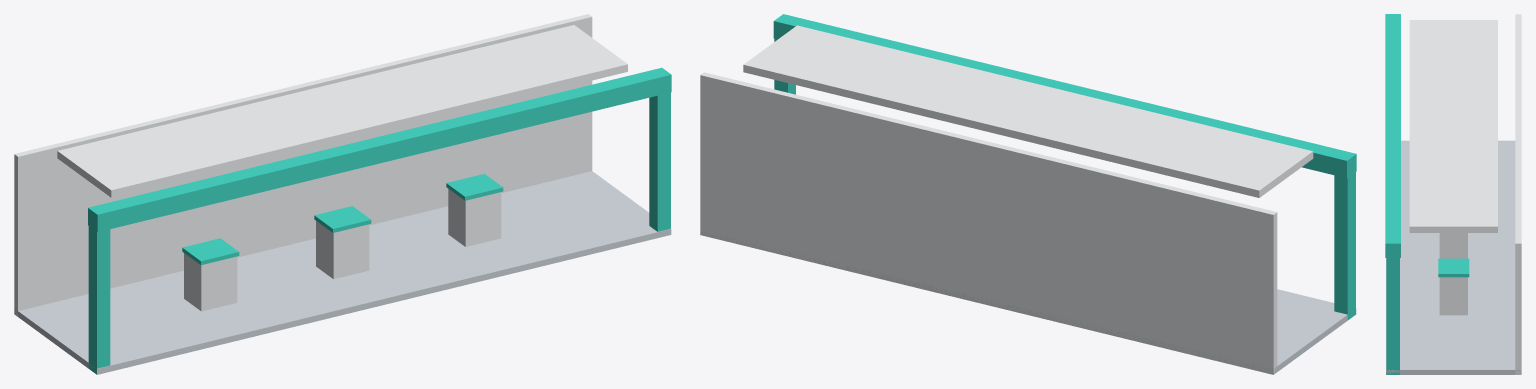
3 renders of one model, left to right at view 1: azimuth 30°, elevation 25°; view 2: azimuth 150°, elevation 25°; view 3: azimuth 270°, elevation 25°, orthographic. The views are drawn at different scales.
Visible parts, largest first — view 1: Exhibition Booth Concept; view 2: Exhibition Booth Concept; view 3: Exhibition Booth Concept.
Part boxes in pixels (x1,y1,x2,y2): Exhibition Booth Concept: (14, 14, 671, 374); Exhibition Booth Concept: (700, 14, 1356, 374); Exhibition Booth Concept: (1385, 14, 1521, 374).
Bounding box in the file's own units: 12 × 3.34 × 3.01.
